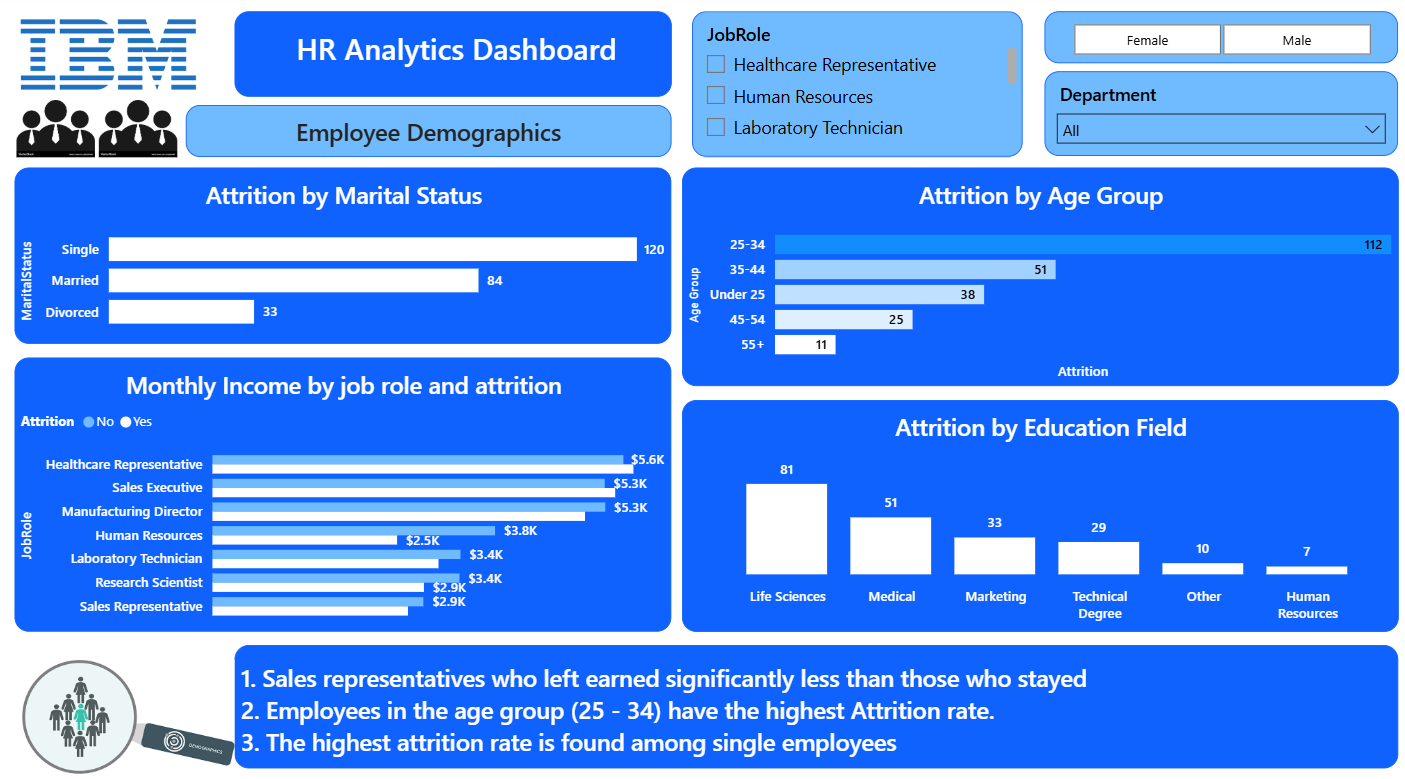

Layout of this report page (visuals, bound fields, positions):
{"tool":"powerbi","page":{"name":"Employee Demographics","canvas":[1280,720],"ordinal":1},"visuals":[{"type":"textbox","box":[215.7,15,396.4,77.3],"z":0},{"type":"clusteredBarChart","title":"Attrition by Marital Status","fields":{"Y":["WA_Fn-UseC_-HR-Employee-Attrition.attrition count"],"Category":["WA_Fn-UseC_-HR-Employee-Attrition.MaritalStatus"]},"box":[16,157,596,160],"z":1000},{"type":"clusteredBarChart","title":"Attrition by Age Group","fields":{"Y":["WA_Fn-UseC_-HR-Employee-Attrition.attrition count"],"Category":["WA_Fn-UseC_-HR-Employee-Attrition.Age Bracket"]},"box":[622,157,650,198],"z":2000},{"type":"clusteredColumnChart","title":"Attrition by Education Field","fields":{"Y":["WA_Fn-UseC_-HR-Employee-Attrition.attrition count"],"Category":["WA_Fn-UseC_-HR-Employee-Attrition.EducationField"]},"box":[622,368,650,210],"z":3000},{"type":"image","box":[16.2,0,170.8,108.5],"z":4000},{"type":"clusteredBarChart","title":"Monthly Income by job role and attrition","fields":{"Category":["WA_Fn-UseC_-HR-Employee-Attrition.JobRole"],"Y":["WA_Fn-UseC_-HR-Employee-Attrition.Avg Monthly Income"],"Series":["WA_Fn-UseC_-HR-Employee-Attrition.Attrition"]},"box":[16,329,596,249],"z":5000},{"type":"textbox","box":[215.5,589.8,1056,112.3],"z":6000},{"type":"image","box":[22.7,589.8,192.8,130.4],"z":7000},{"type":"slicer","fields":{"Values":["WA_Fn-UseC_-HR-Employee-Attrition.JobRole"]},"box":[630.4,14.6,299.9,131.7],"z":8000},{"type":"slicer","fields":{"Values":["WA_Fn-UseC_-HR-Employee-Attrition.Gender"]},"box":[951,14.6,320.7,47.6],"z":9000},{"type":"slicer","fields":{"Values":["WA_Fn-UseC_-HR-Employee-Attrition.Department"]},"box":[951,69.5,320.7,76.8],"z":10000},{"type":"textbox","box":[171,100,441,47],"z":11000},{"type":"image","box":[69,95,118,52],"z":12000},{"type":"image","box":[6,95,95.5,52],"z":13000}]}

Visuals, with their boxes in screenshot pixels (x1, y1, x2, y2), scaled from the page's 1280x720 canvas onto the 1405x779 screenshot:
textbox: bbox=(237, 16, 672, 100)
"Attrition by Marital Status" clusteredBarChart: bbox=(18, 170, 672, 343)
"Attrition by Age Group" clusteredBarChart: bbox=(683, 170, 1396, 384)
"Attrition by Education Field" clusteredColumnChart: bbox=(683, 398, 1396, 625)
image: bbox=(18, 0, 205, 117)
"Monthly Income by job role and attrition" clusteredBarChart: bbox=(18, 356, 672, 625)
textbox: bbox=(237, 638, 1396, 760)
image: bbox=(25, 638, 237, 778)
slicer - WA_Fn-UseC_-HR-Employee-Attrition.JobRole: bbox=(692, 16, 1021, 158)
slicer - WA_Fn-UseC_-HR-Employee-Attrition.Gender: bbox=(1044, 16, 1396, 67)
slicer - WA_Fn-UseC_-HR-Employee-Attrition.Department: bbox=(1044, 75, 1396, 158)
textbox: bbox=(188, 108, 672, 159)
image: bbox=(76, 103, 205, 159)
image: bbox=(7, 103, 111, 159)
